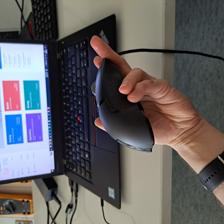mouse: (93, 57, 156, 153)
